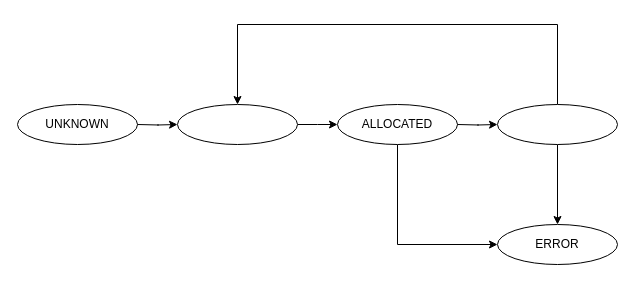
Image size: 635x282. Some labels were removed from this diagram. Here are the shapes that lost their labels. From the top down, the centre of each, then its label:
At point 237,124: "NOT_SEEN".
At point 557,124: "REMOVED".
